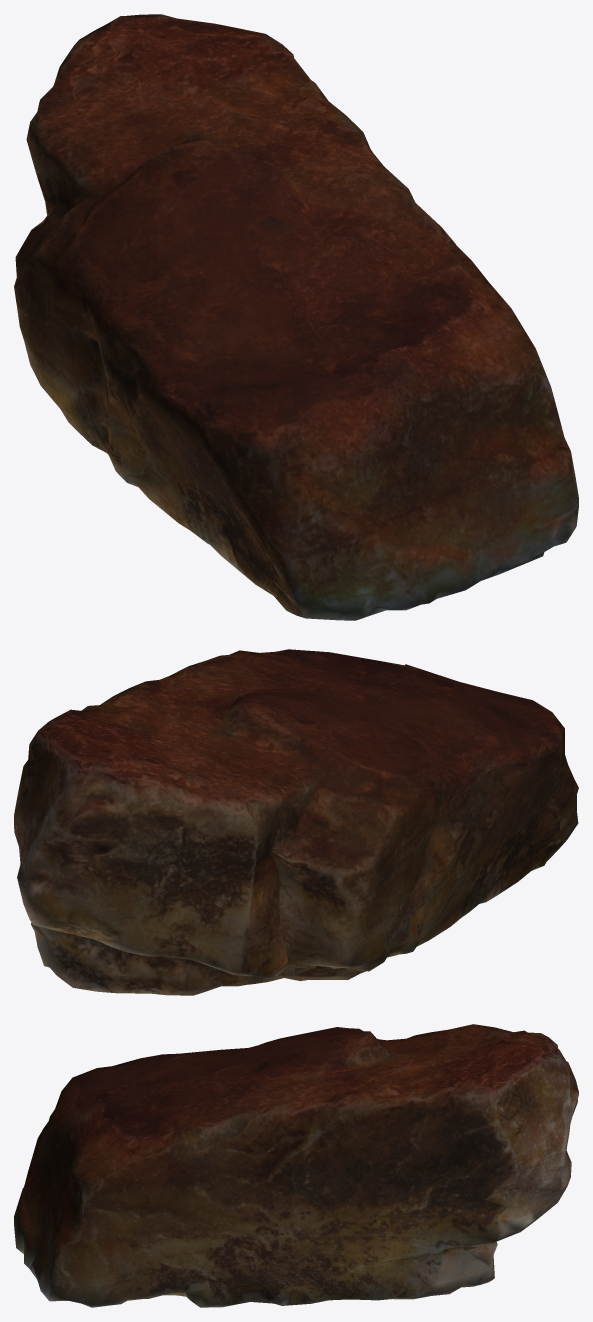
File: rock_07.glb
3 views of the same model, one above another, from view 1: azimuth 30°, elevation 25°; view 2: azimuth 150°, elevation 25°; view 3: azimuth 270°, elevation 25° (orthographic). The views are drawn at different scales.
Visible parts, largest first — view 1: Prop; view 2: Prop; view 3: Prop.
Boxes of the visible parts, box(x1,y1,x2,y2) form: Prop: box(14, 14, 578, 620); Prop: box(14, 649, 578, 995); Prop: box(14, 1024, 578, 1307).
Size of the model in its own units: 0.168 by 0.1436 by 0.3201.
1 material, 1 textured.
